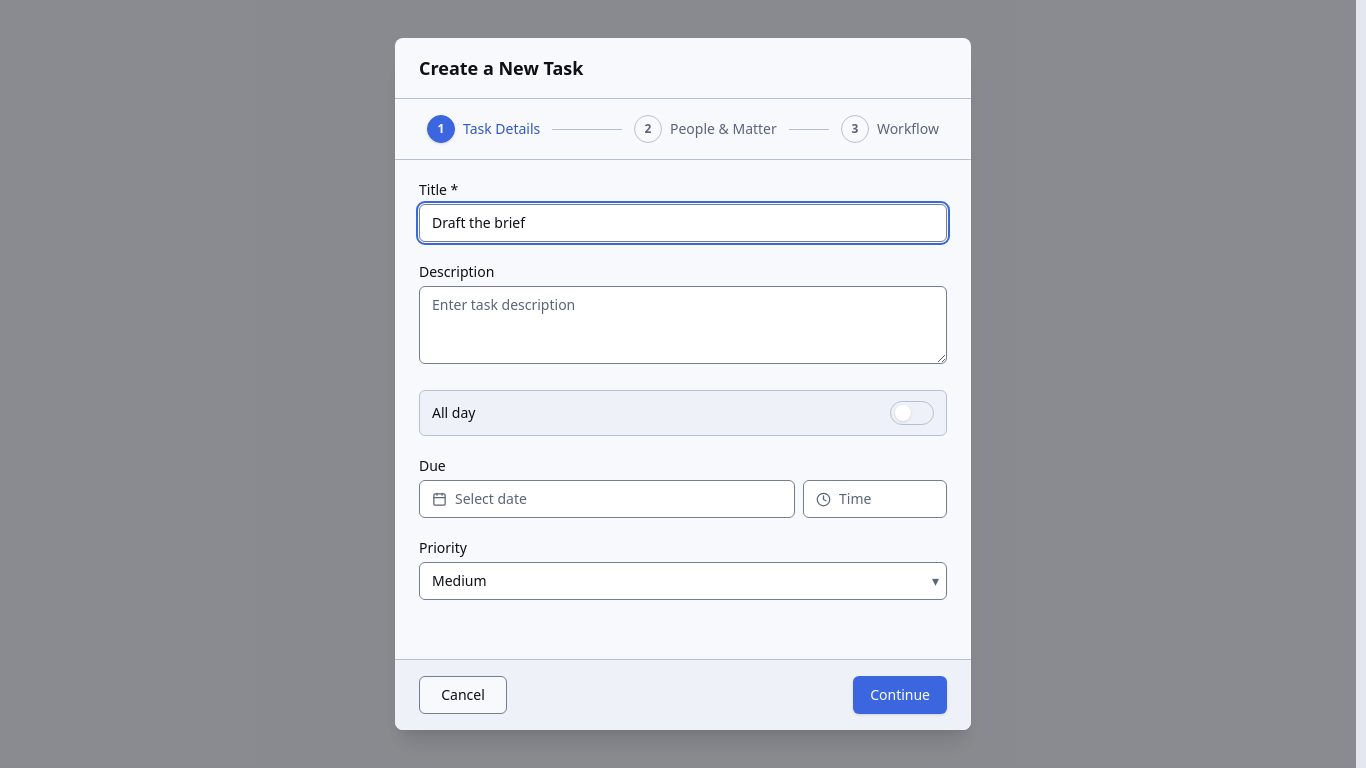
Scenario: CreateTaskModal › replaces the client picker with an inherited-clients note once a matter is chosen
Click the button "Continue" at (900, 695), box [853, 676, 947, 714]
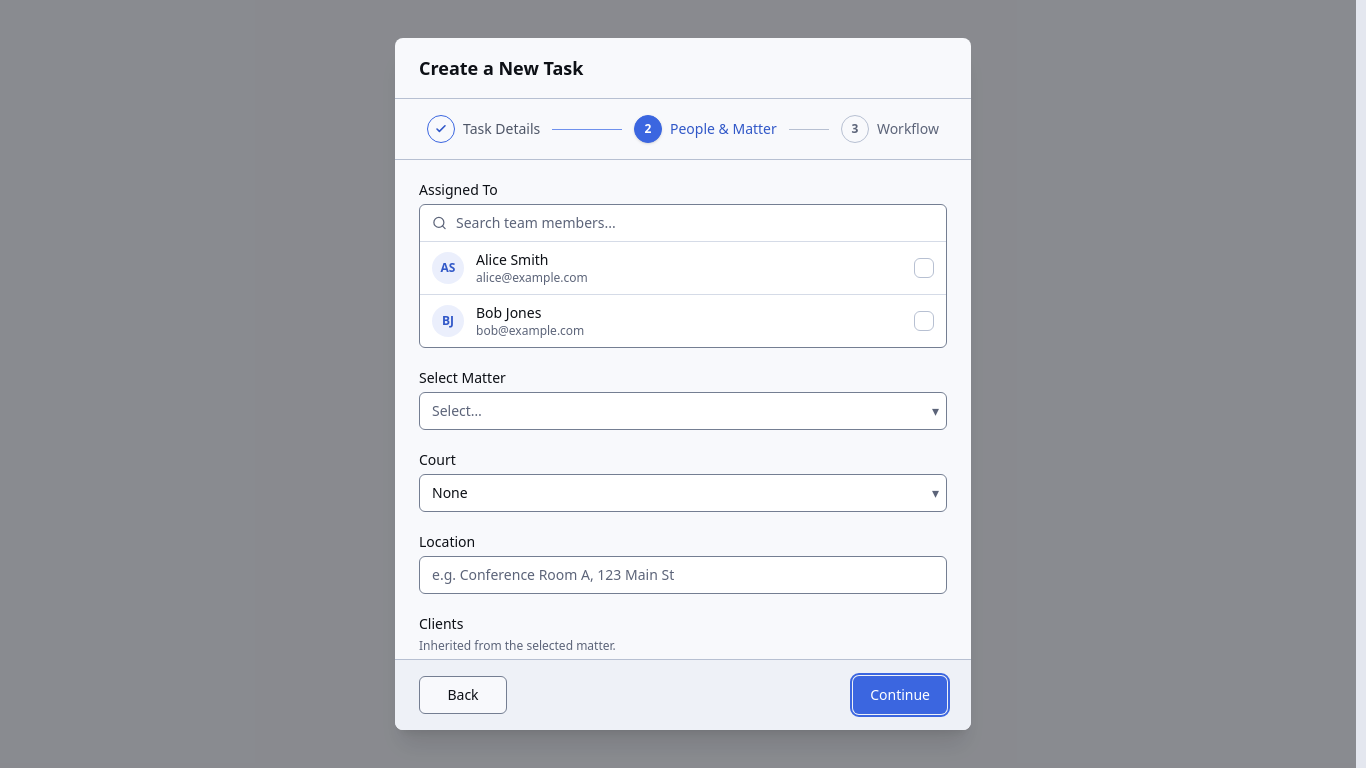
expect the text "Inherited from the selected matter." is shown: met, box [419, 637, 616, 654]
